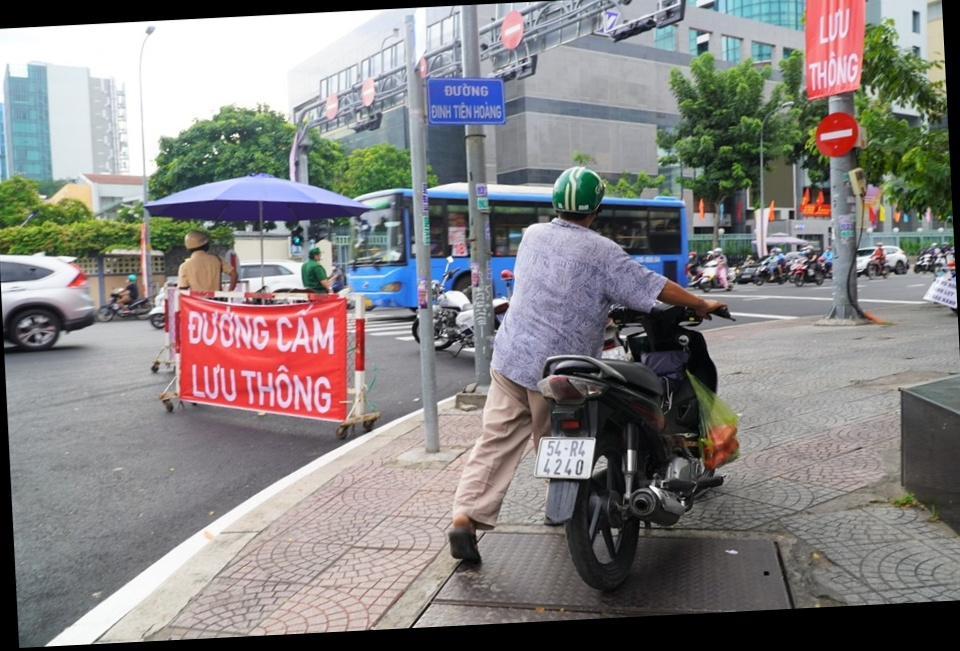Bien-so: (537, 476, 605, 524)
